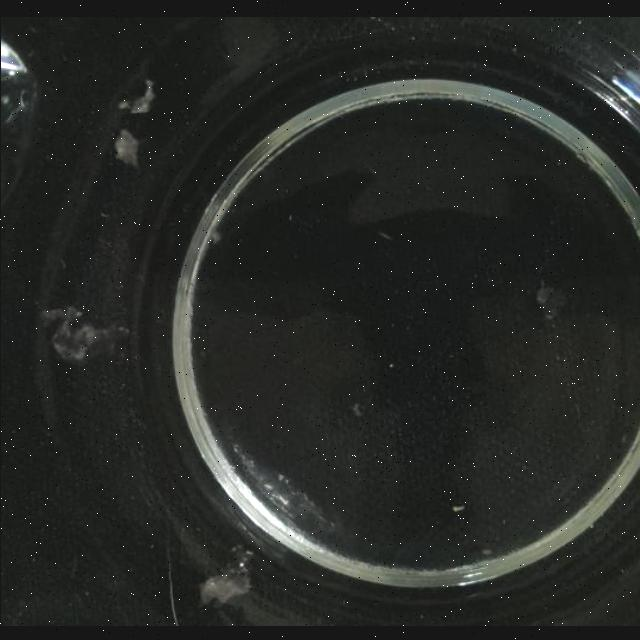Fibre: (41, 303, 129, 361), (200, 566, 252, 604), (120, 78, 154, 112), (535, 283, 565, 321), (210, 226, 222, 242)
microbeads: (112, 127, 140, 165), (350, 400, 362, 414), (451, 502, 465, 510), (278, 472, 284, 481)
